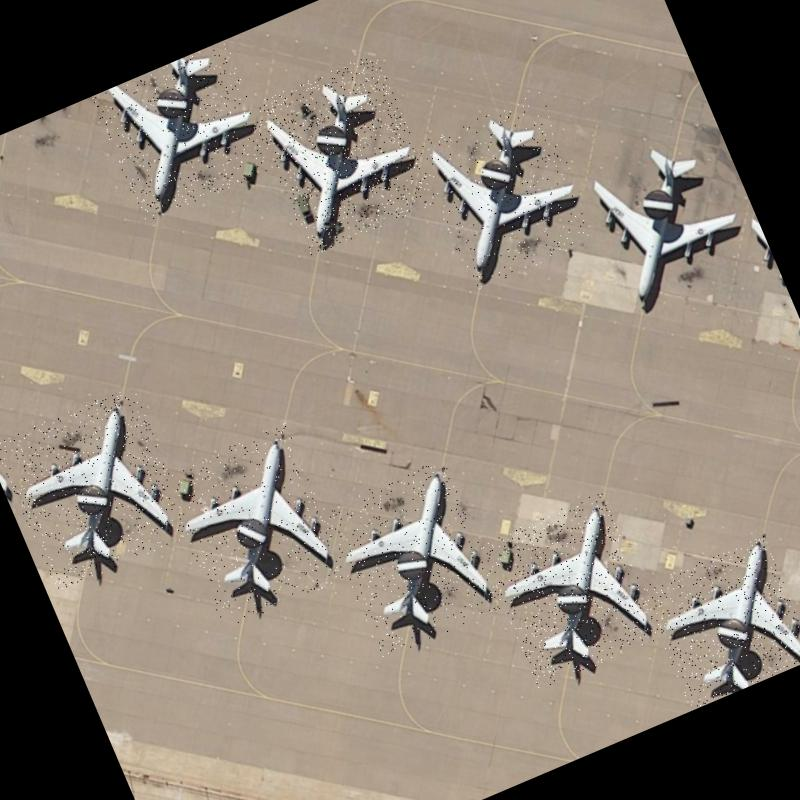A7: (0, 384, 195, 592), (160, 422, 351, 630), (248, 52, 440, 256), (569, 119, 764, 318), (319, 457, 508, 660), (412, 92, 602, 292), (478, 492, 664, 690), (92, 40, 280, 224), (639, 535, 800, 710)
